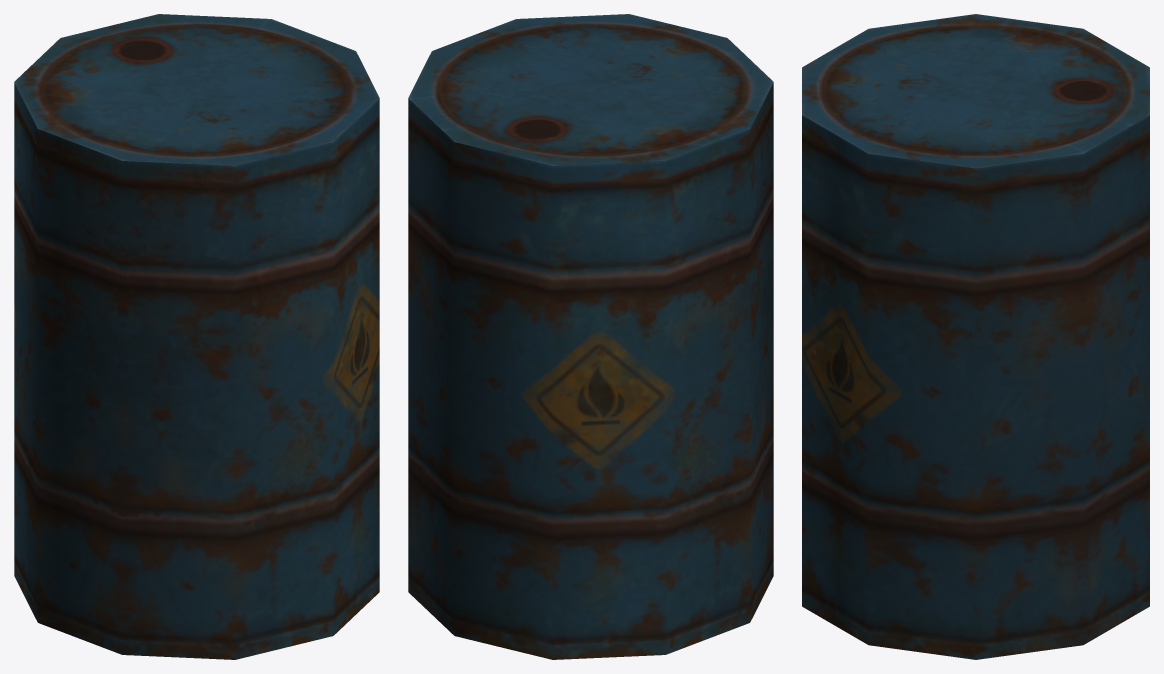
File: lanyoutong.FBX
The picture shows the model from 3 angles, left to right: view 1: azimuth 30°, elevation 25°; view 2: azimuth 150°, elevation 25°; view 3: azimuth 270°, elevation 25°; orthographic projection.
Visible parts, largest first — view 1: Cylinder002; view 2: Cylinder002; view 3: Cylinder002.
Boxes of the visible parts, x1,y1,x2,y2 form: Cylinder002: (14,14,379,659); Cylinder002: (408,14,773,659); Cylinder002: (802,14,1149,659).
Size of the model in its own units: 0.7636 by 1.13 by 0.7262.
